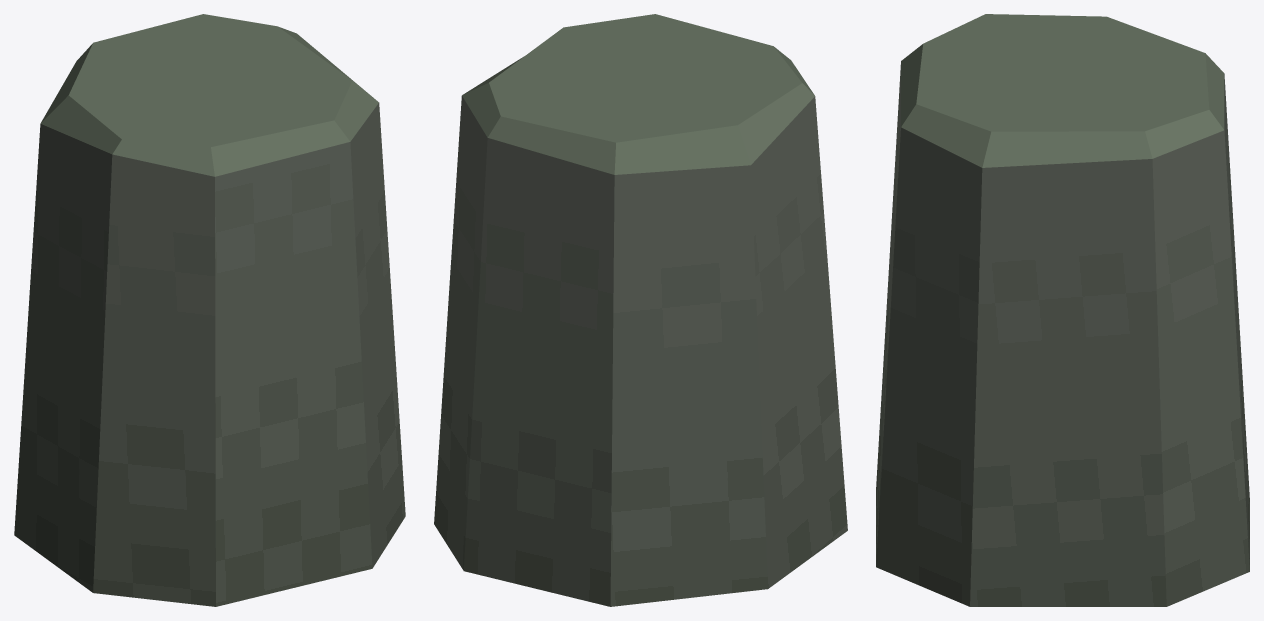
File: roche_river.glb
3 renders of one model, left to right at view 1: azimuth 30°, elevation 25°; view 2: azimuth 150°, elevation 25°; view 3: azimuth 270°, elevation 25°, orthographic. The views are drawn at different scales.
Visible parts, largest first — view 1: Pound caillou; view 2: Pound caillou; view 3: Pound caillou.
Part boxes in pixels (x1=…): Pound caillou: x1=14, y1=14, x2=405, y2=606; Pound caillou: x1=434, y1=14, x2=847, y2=606; Pound caillou: x1=876, y1=14, x2=1249, y2=606.
Size of the model in its own units: 0.1447 by 0.1937 by 0.1447.
1 material, 1 textured.
